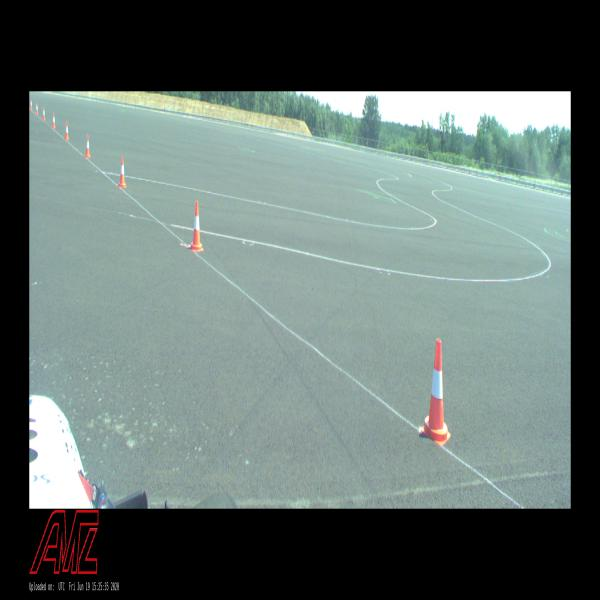orange_cone: (422, 339, 450, 446), (190, 201, 204, 252), (119, 156, 126, 188), (85, 134, 90, 158), (65, 122, 69, 140), (42, 108, 46, 120), (52, 113, 55, 128), (36, 103, 38, 114), (30, 99, 32, 109)
